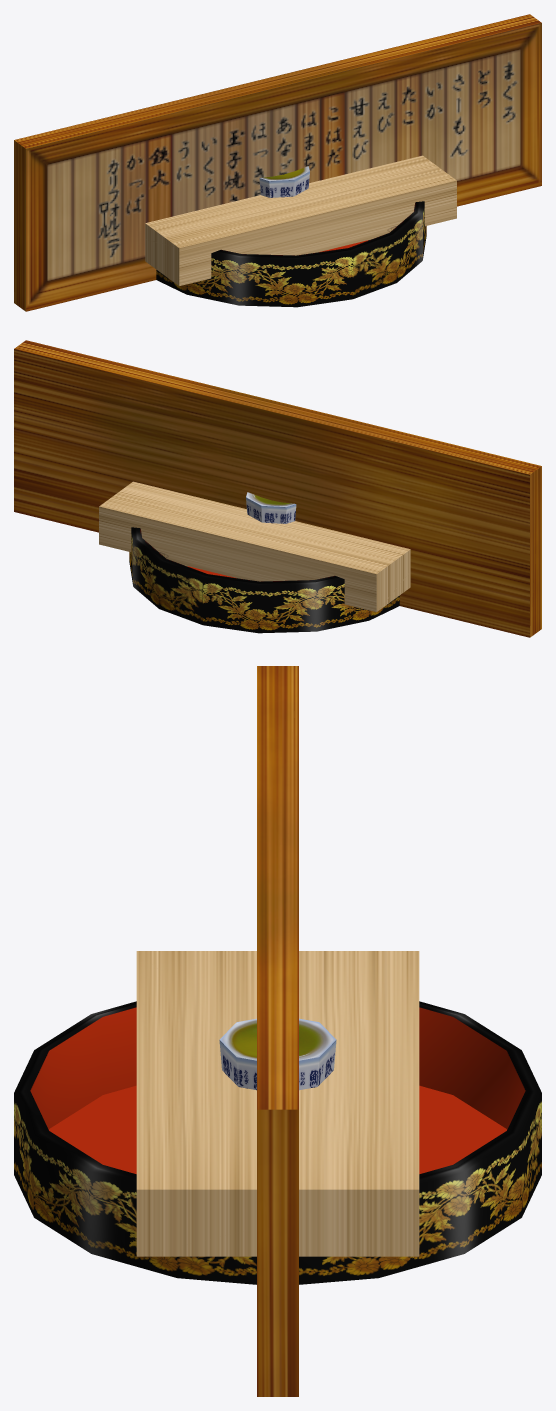
Rendered from all_items.fbx.
3 renders of one model, top to bottom at view 1: azimuth 30°, elevation 25°; view 2: azimuth 150°, elevation 25°; view 3: azimuth 270°, elevation 25°, orthographic. The views are drawn at different scales.
Parts seen in each view (by area): view 1: oshinagaki_02, sushigeta_02, oke_02, agari_02; view 2: oshinagaki_02, sushigeta_02, oke_02, agari_02; view 3: sushigeta_02, oke_02, oshinagaki_02, agari_02.
Part boxes in pixels (bbox=[...]): oshinagaki_02: bbox=[14, 14, 541, 311]; sushigeta_02: bbox=[145, 155, 456, 286]; oke_02: bbox=[156, 201, 426, 307]; agari_02: bbox=[259, 166, 309, 197]; oshinagaki_02: bbox=[14, 340, 541, 637]; sushigeta_02: bbox=[99, 481, 410, 612]; oke_02: bbox=[129, 527, 399, 633]; agari_02: bbox=[246, 492, 296, 523]; sushigeta_02: bbox=[136, 951, 419, 1256]; oke_02: bbox=[14, 1001, 541, 1284]; oshinagaki_02: bbox=[257, 666, 298, 1396]; agari_02: bbox=[219, 1018, 336, 1090].
Size of the model in its own units: 99.4 by 30.12 by 50.
